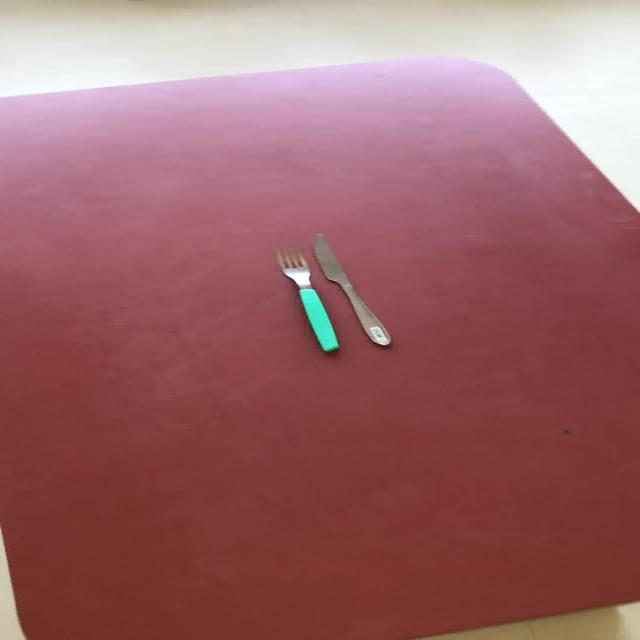fork: (273, 249, 339, 352)
knife fork: (311, 232, 391, 346)
